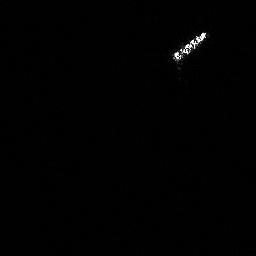ship: (168, 28, 210, 65)
